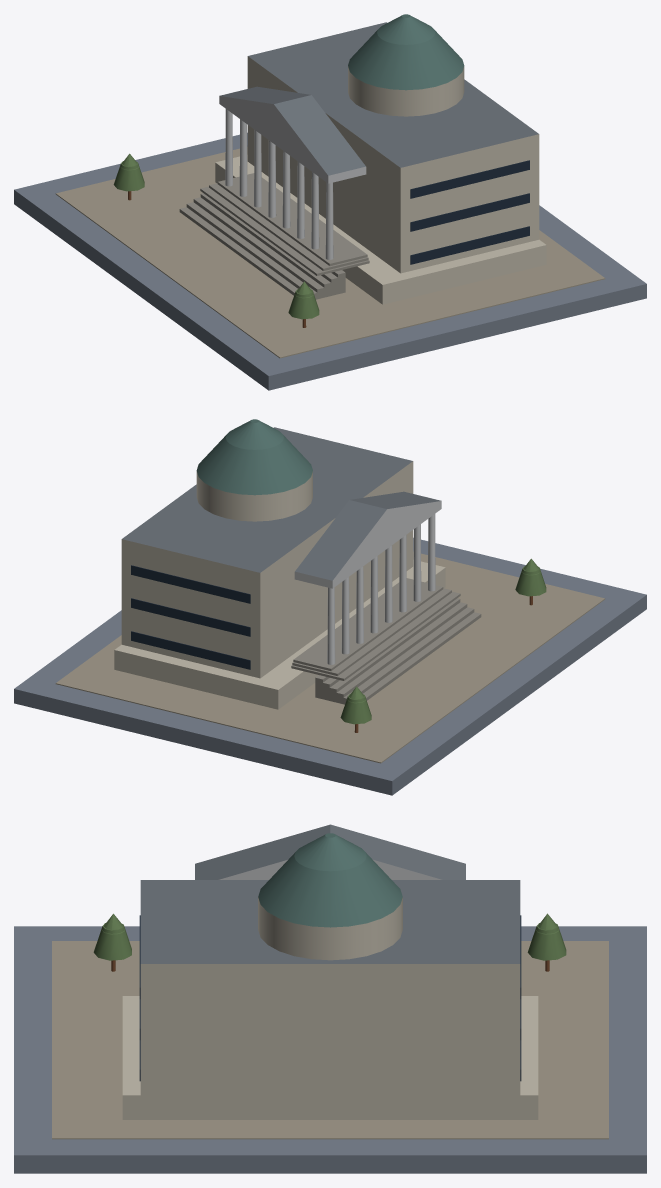
File: courthouse.glb
3 views of the same model, one above another, from view 1: azimuth 30°, elevation 25°; view 2: azimuth 150°, elevation 25°; view 3: azimuth 270°, elevation 25° (orthographic). The views are drawn at different scales.
Parts seen in each view (by area): view 1: courthouse; view 2: courthouse; view 3: courthouse.
Boxes of the visible parts, x1,y1,x2,y2 form: courthouse: (14, 14, 646, 390); courthouse: (14, 419, 646, 795); courthouse: (14, 824, 646, 1173).
Bounding box in the file's own units: 60 × 32.85 × 70.
